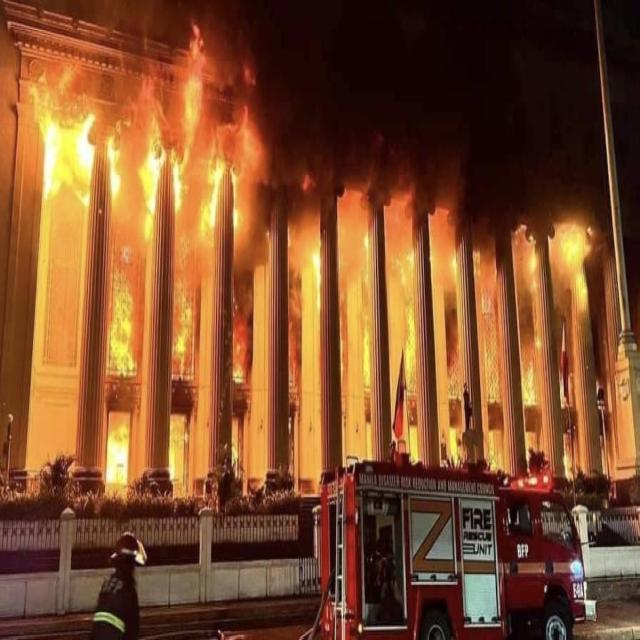Fire: (169, 22, 222, 228), (30, 52, 97, 210), (106, 77, 166, 231), (386, 226, 424, 390), (104, 233, 144, 380), (226, 258, 268, 396), (541, 194, 587, 298), (350, 224, 376, 399), (171, 228, 201, 378), (101, 392, 137, 492), (295, 230, 328, 310), (168, 403, 197, 492)
Smoke: (243, 4, 561, 220)
